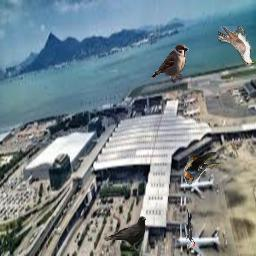Crow: (106, 216, 146, 252)
Cuckoo: (218, 26, 254, 66)
Sparrow: (151, 44, 189, 84)
Swallow: (184, 152, 224, 185)
Woodpecker: (186, 209, 195, 249)
